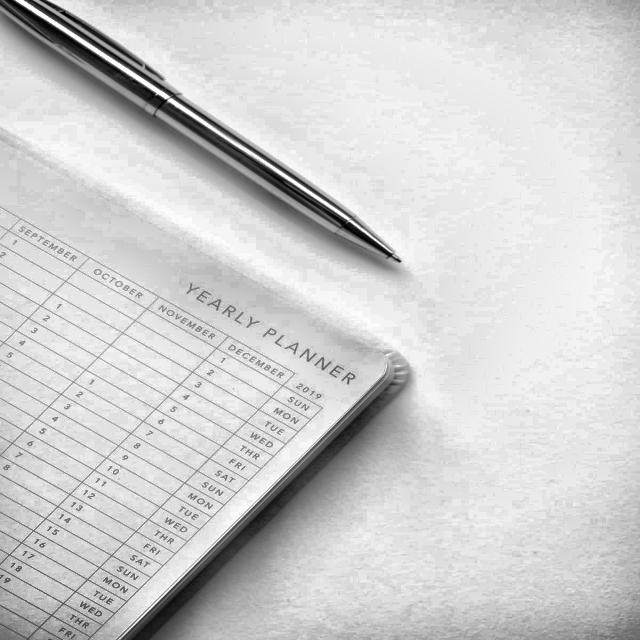eraser: (4, 0, 411, 270)
